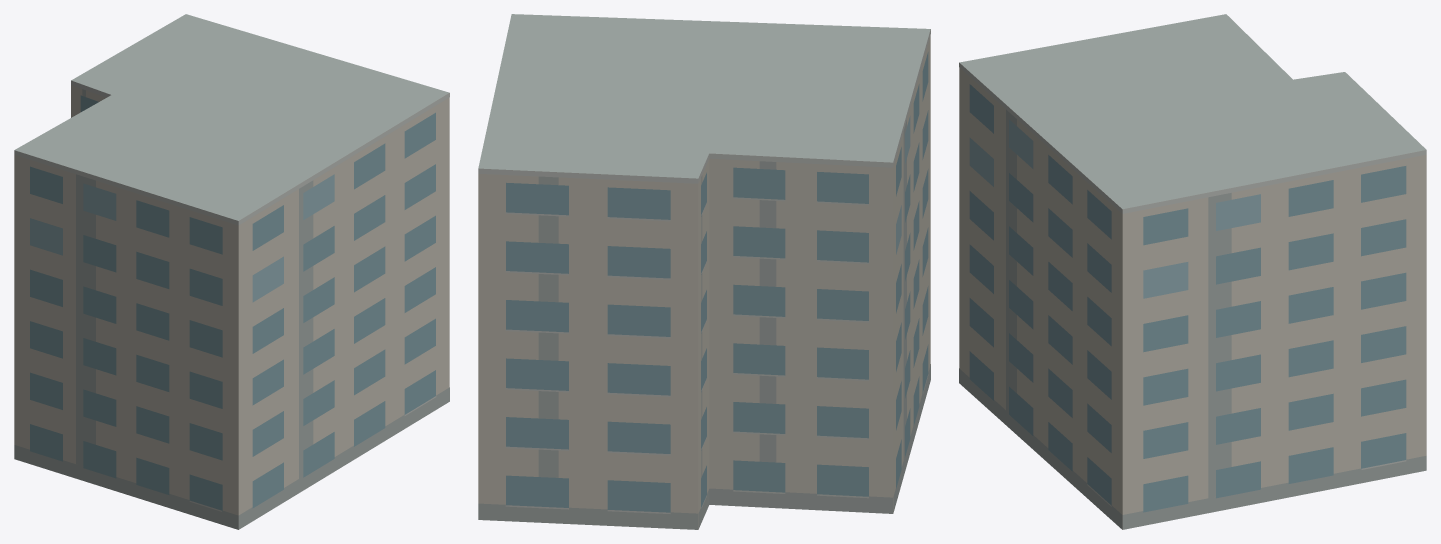
File: survey-upis-32826148.glb
3 views of the same model, side by side, from view 1: azimuth 30°, elevation 25°; view 2: azimuth 150°, elevation 25°; view 3: azimuth 270°, elevation 25° (orthographic). The views are drawn at different scales.
Visible parts, largest first — view 1: survey-upis-32826148.tmp; view 2: survey-upis-32826148.tmp; view 3: survey-upis-32826148.tmp.
Boxes of the visible parts, x1,y1,x2,y2 form: survey-upis-32826148.tmp: (14, 14, 449, 529); survey-upis-32826148.tmp: (478, 14, 930, 529); survey-upis-32826148.tmp: (959, 14, 1426, 529).
Size of the model in its own units: 21.43 by 16.4 by 21.68.
